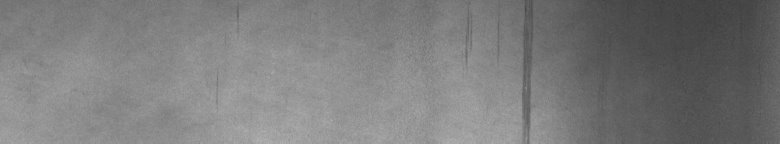hd: (465, 4, 537, 136)
